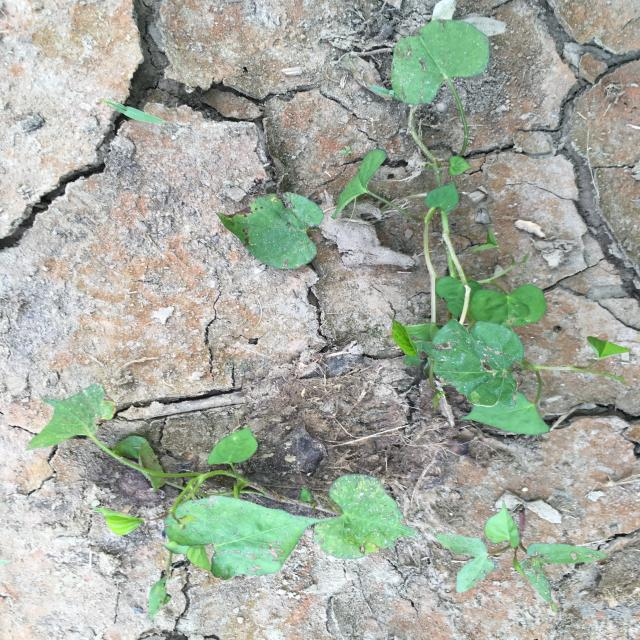MorningGlory: (215, 18, 631, 435), (24, 383, 420, 623), (429, 500, 608, 612)
